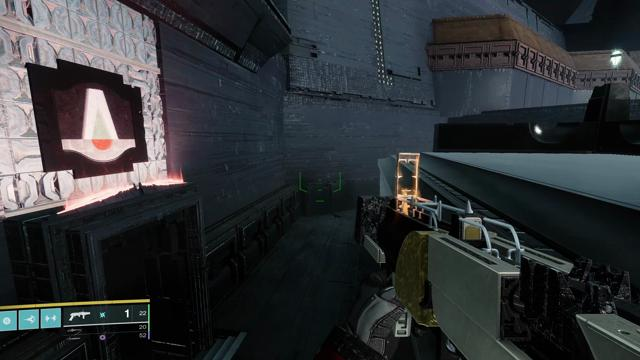enter: (53, 82, 136, 161)
